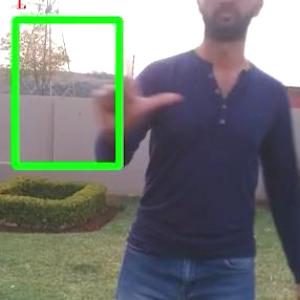land_hand: (88, 28, 187, 127)
